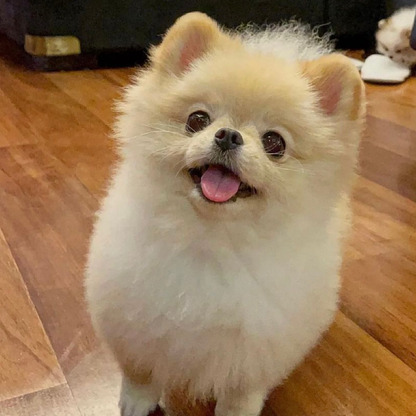Pomeranian: (98, 14, 365, 407)
